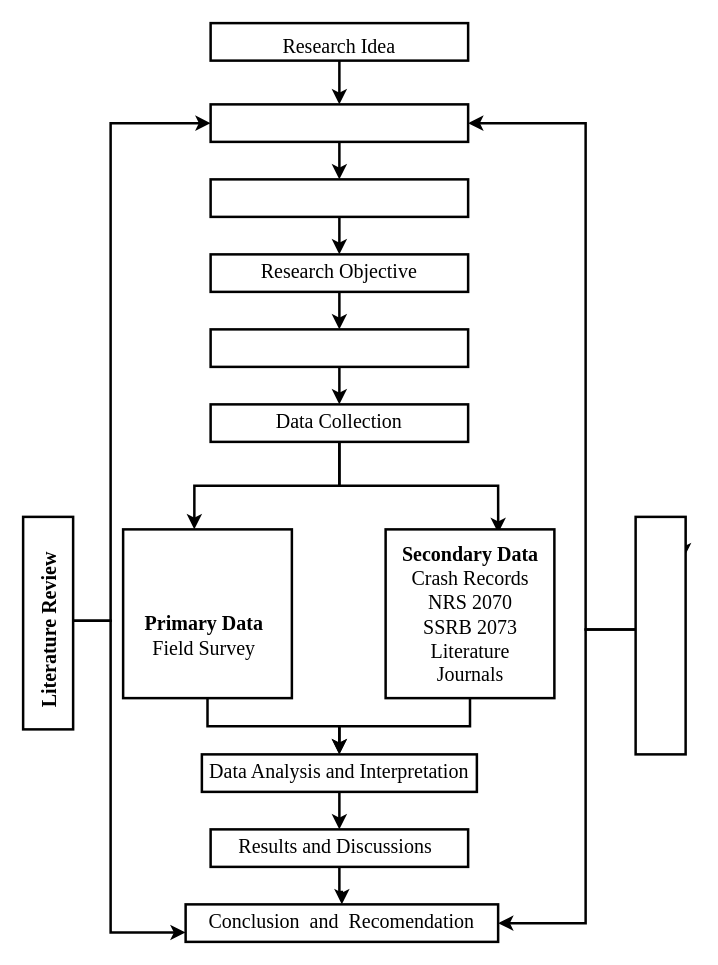
Some shapes in this 718 by 965 pixel diagram are drawn without their labels. Each missing label, with the centre of its shape:
"Formulate Research Questions" goes at point 339,198.
"Methodology" goes at point 339,348.
"Reaearch Problem Statement" goes at point 339,122.
"Supervisior Conclusion" goes at point 660,635.
